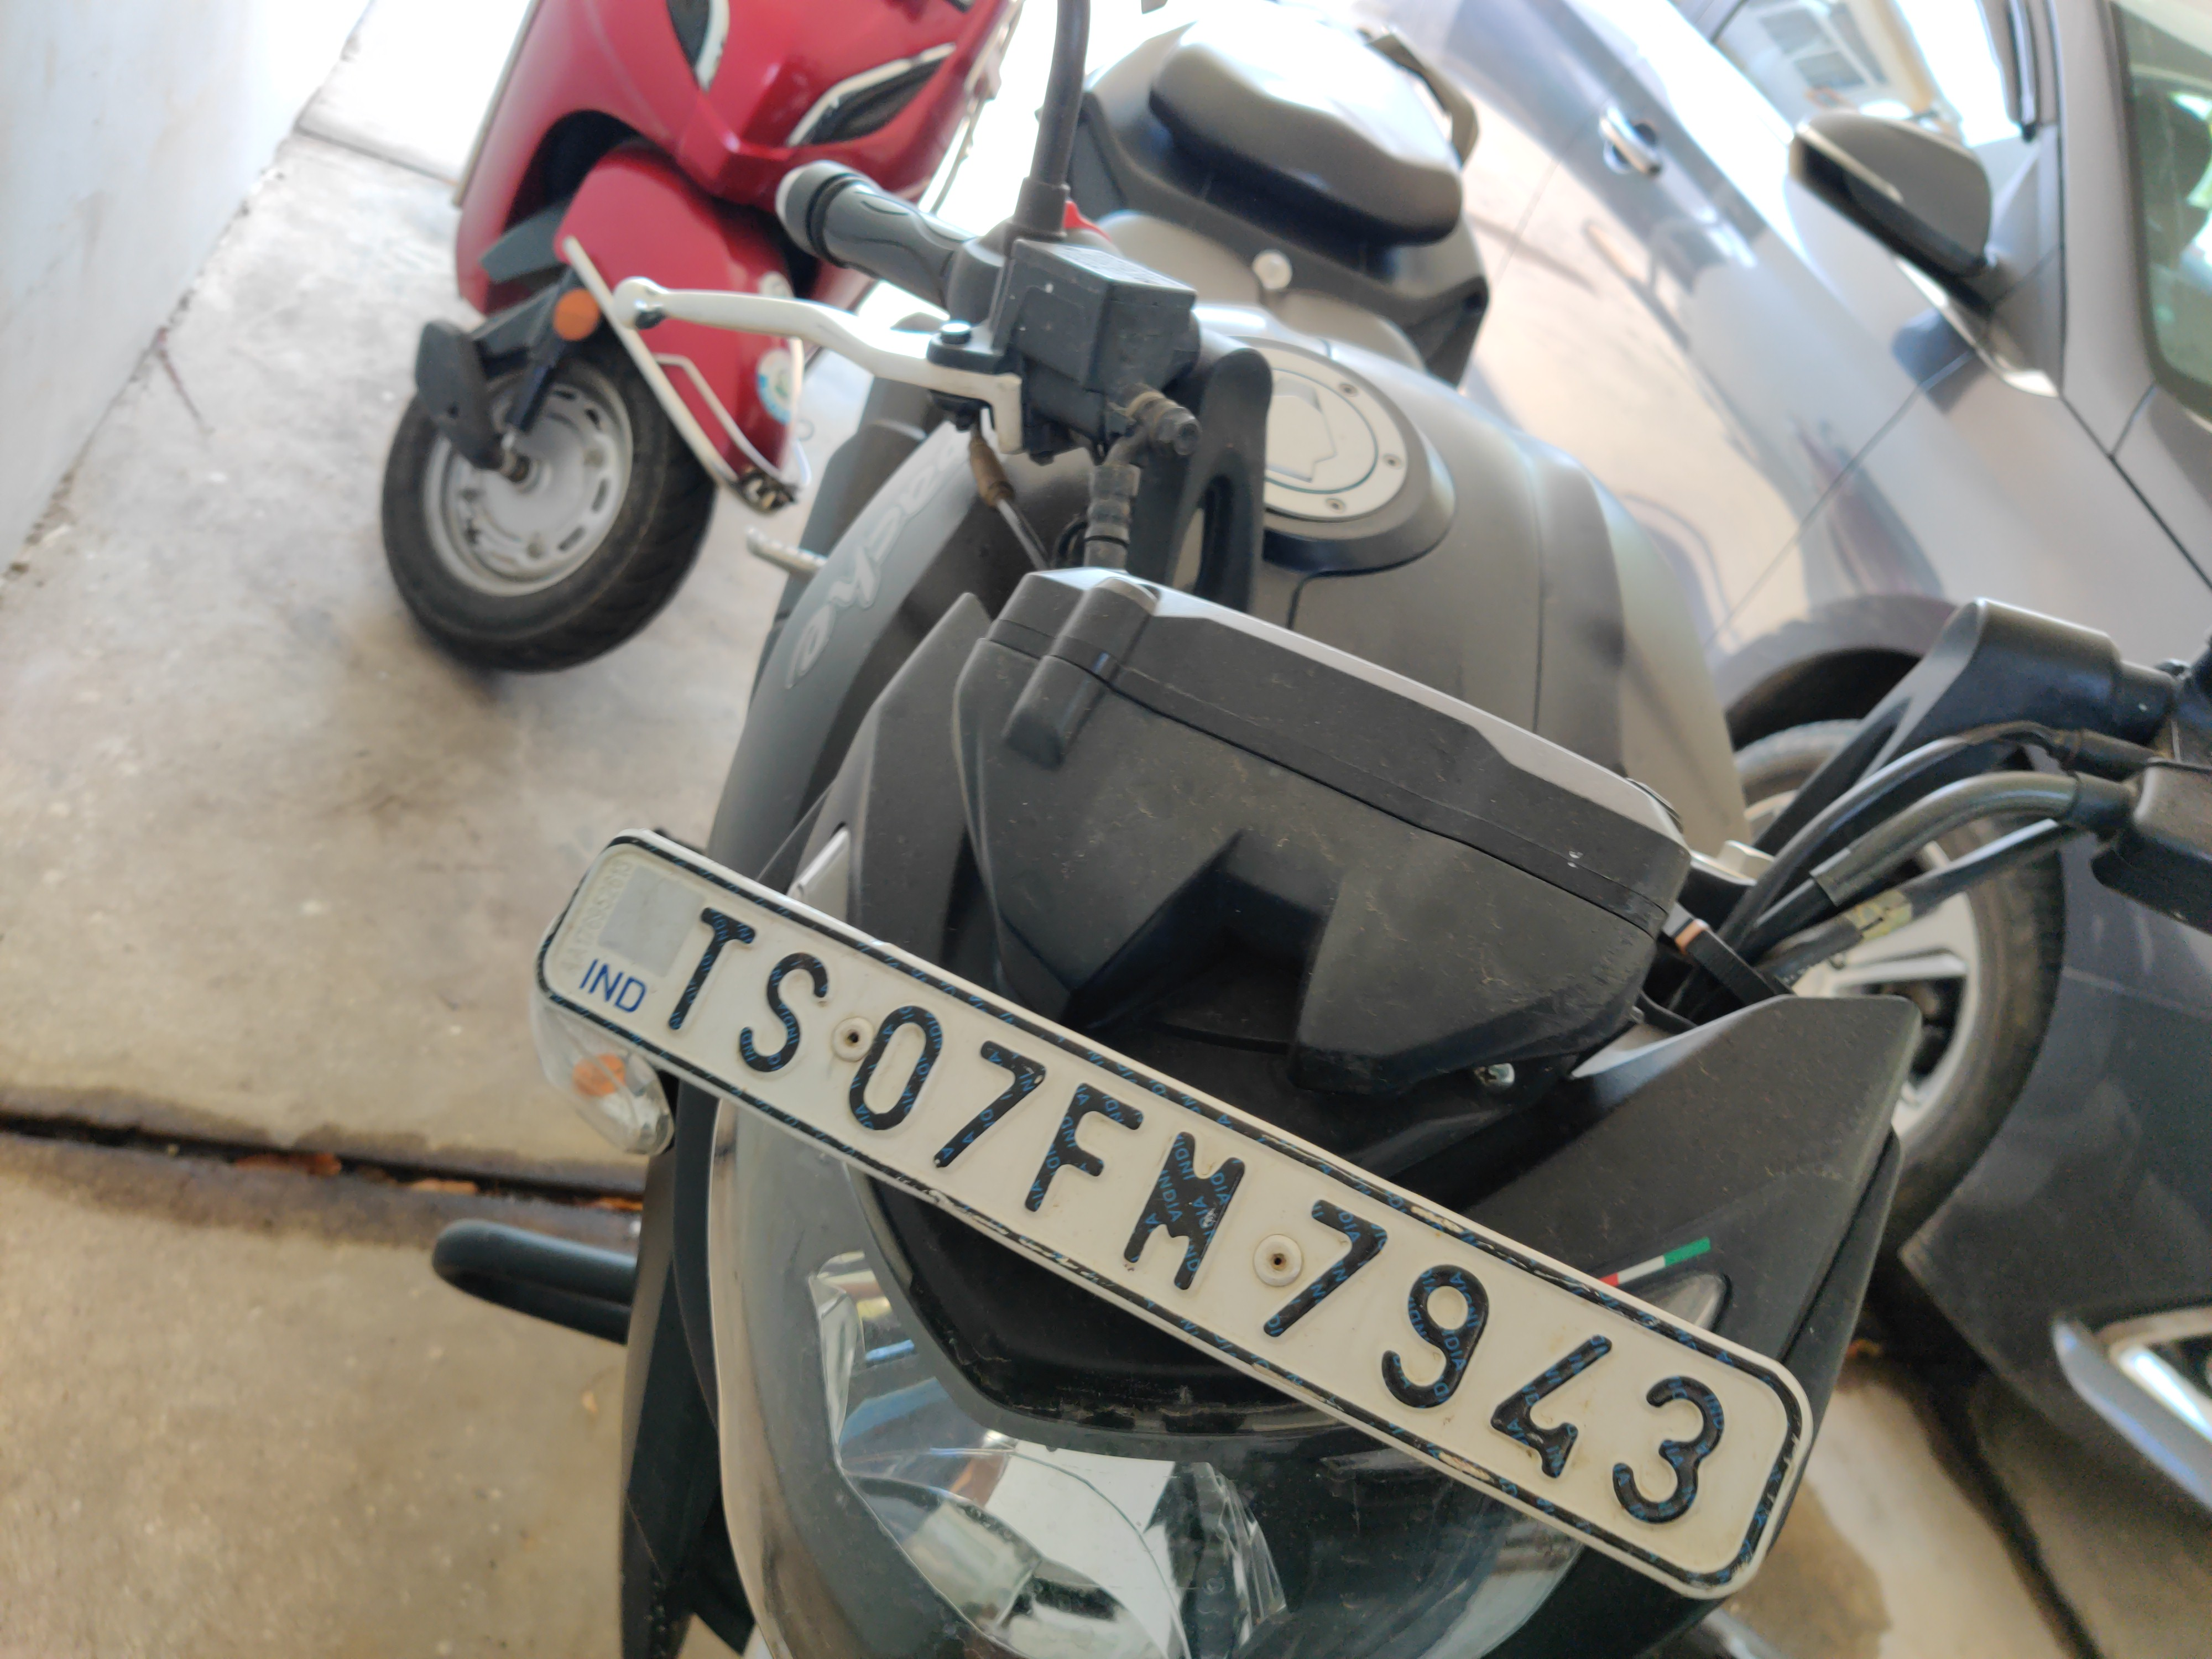plate: (507, 799, 1848, 1610)
